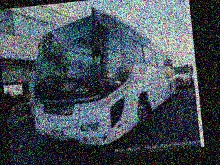bus: (23, 0, 183, 154)
